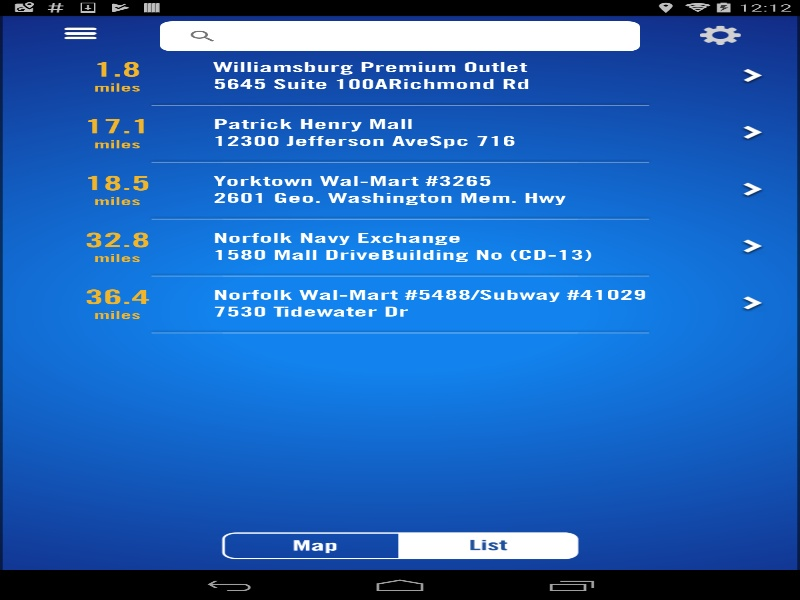Button: (204, 526, 400, 565), (400, 526, 595, 565), (640, 15, 800, 54), (0, 15, 160, 52), (608, 324, 778, 357)
Input: (192, 77, 778, 98), (192, 120, 778, 141), (192, 164, 778, 185), (192, 208, 778, 229), (192, 252, 778, 273), (224, 24, 629, 47)
